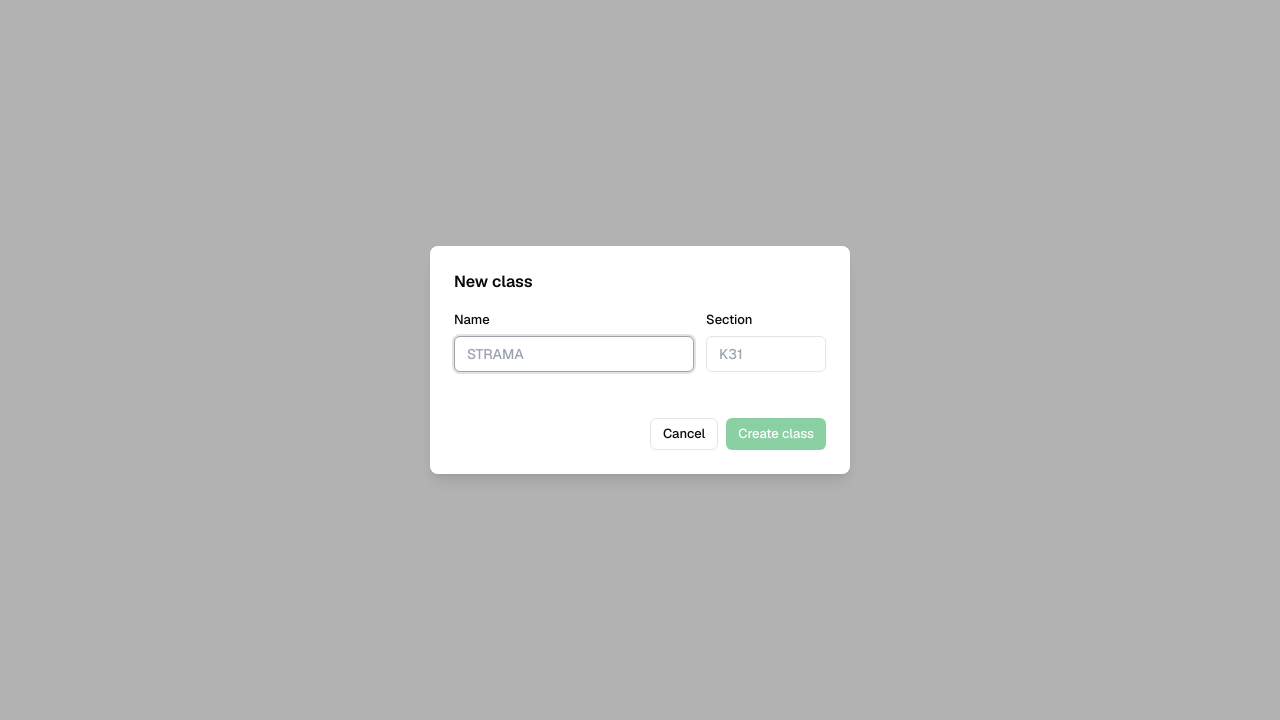
Test: the class form › shows the label students will see, and submits on Enter
The image size is (1280, 720).
Type " STRAMA " into the field labelled "Name" at point(574, 354), box [454,336,694,372]
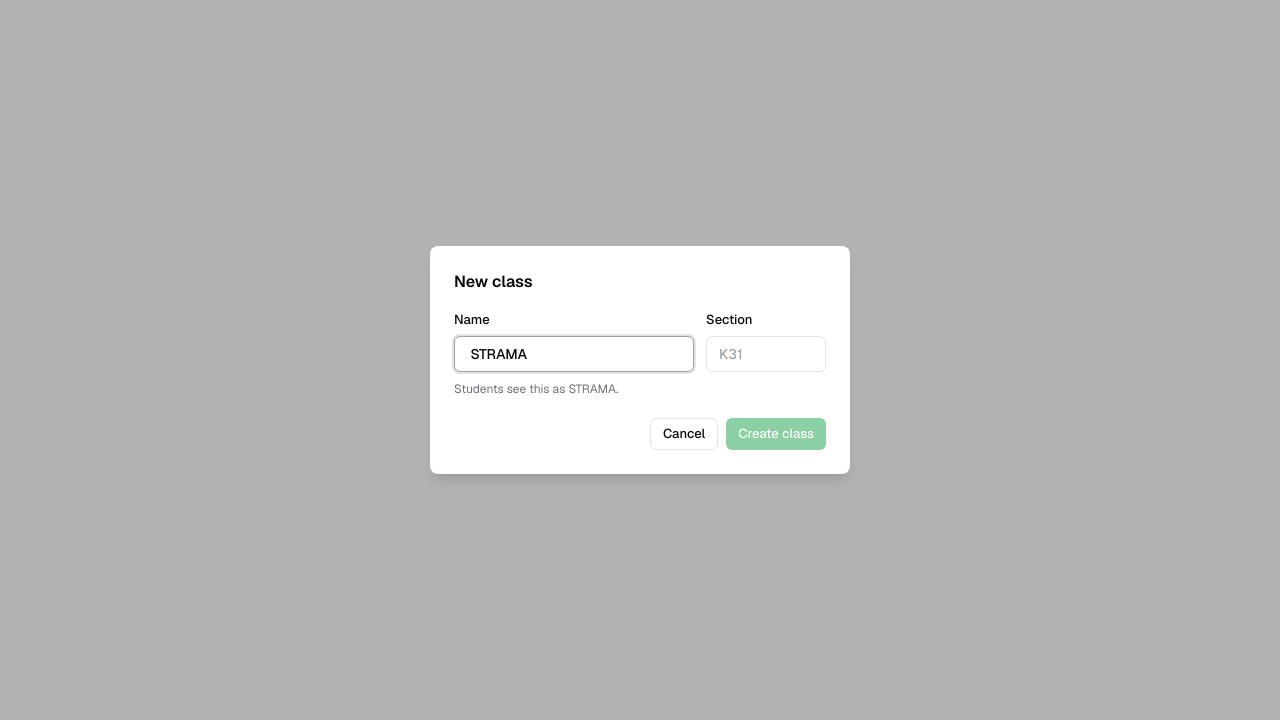
Type "K32" into the field labelled "Section" at point(766, 354), box [706,336,826,372]
Then press Enter
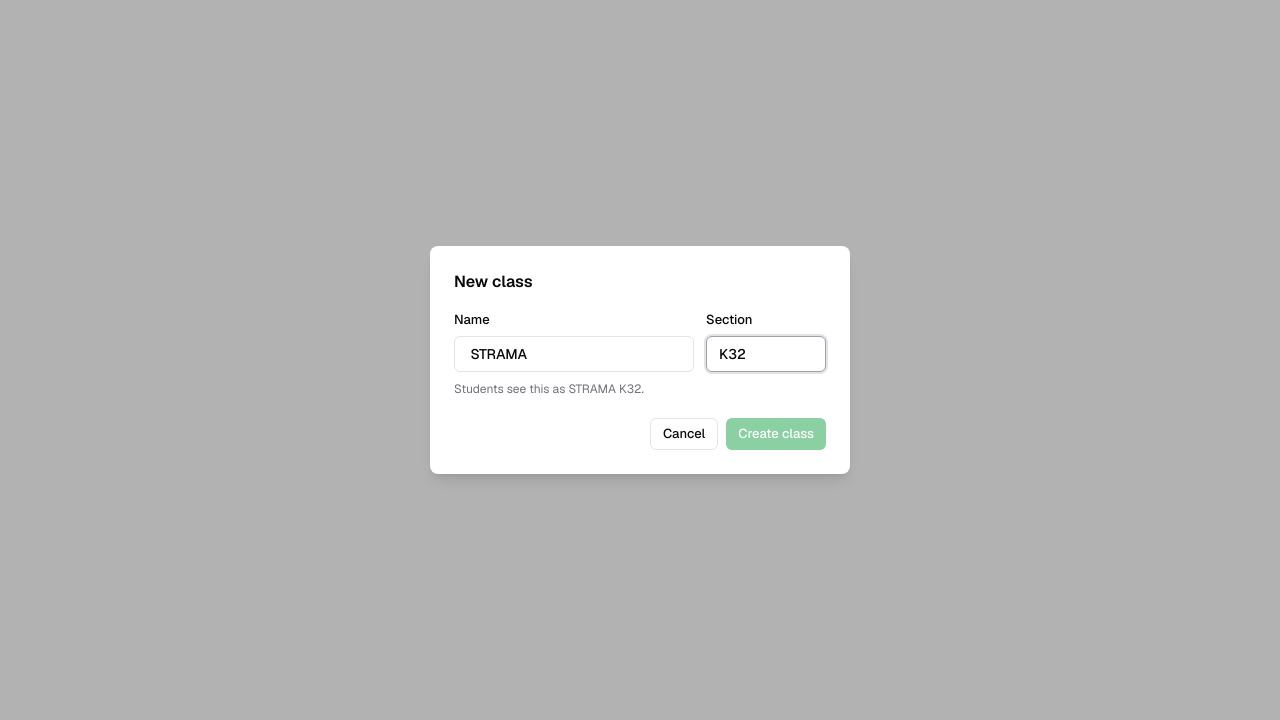
Expected: the text "Students see this as STRAMA K32." is shown, [454,381,644,397]
